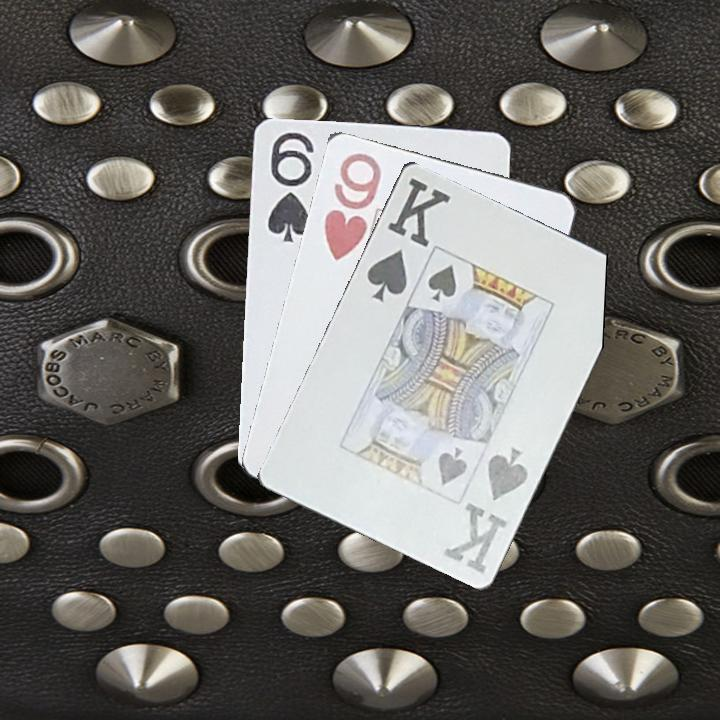6s: (263, 128, 314, 245)
9h: (320, 148, 384, 264)
Ks: (439, 443, 532, 576), (362, 173, 454, 305)
